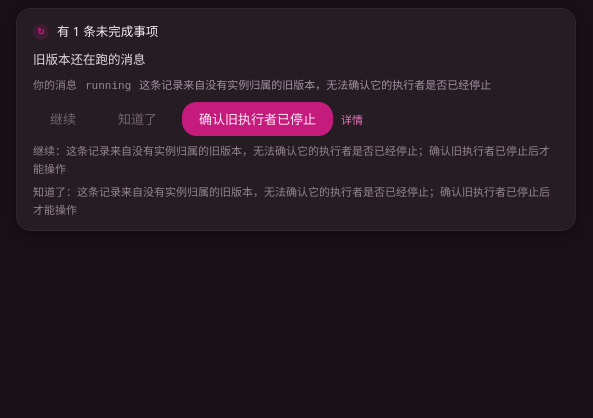
F01 无归属记录：确认之前一个状态动作都点不动 › 确认失败：就地显示原因，不假装已确认
The width and height of the screenshot is (593, 418).
Click the button with class "btn-confirm_stopped".
click(258, 119)  # box x1=182 y1=102 x2=333 y2=136
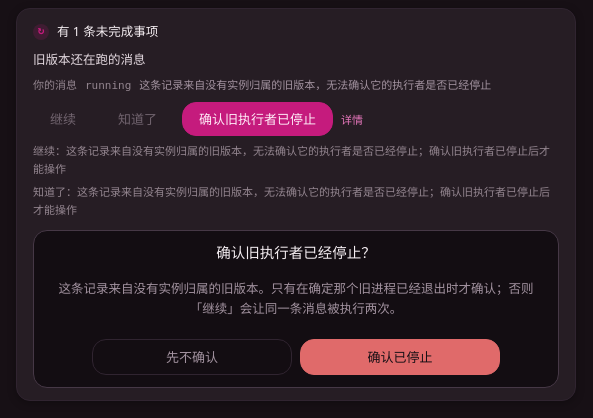
Click the button "确认已停止".
click(400, 357)  # box x1=300 y1=339 x2=500 y2=375
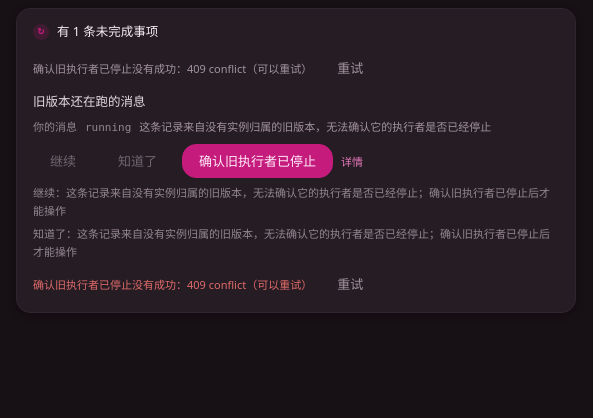
Expected: the button with class "btn-continue" is disabled, x1=33 y1=144 x2=93 y2=178
Expected: the message with class "inline-error" shows "确认旧执行者已停止", x1=33 y1=277 x2=312 y2=292
